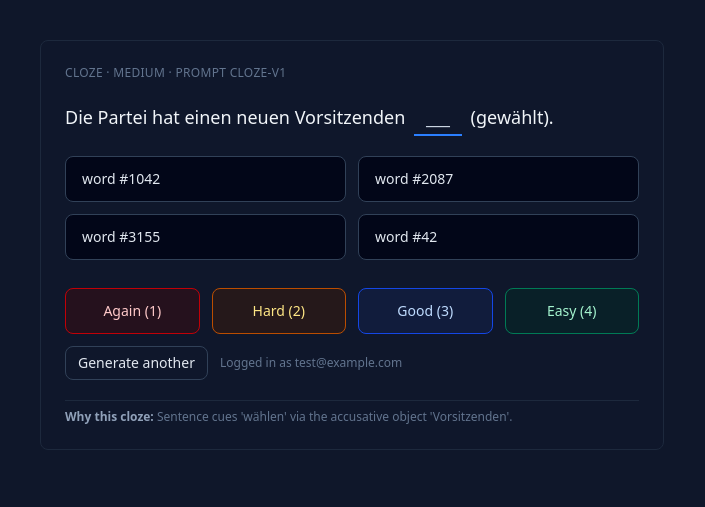
Scenario: ClozePage › 204 from getDueCloze shows the empty-due state ("all caught up")
Click the button with test id "grade-button-3".
click(425, 311)  # box [358,288,492,334]
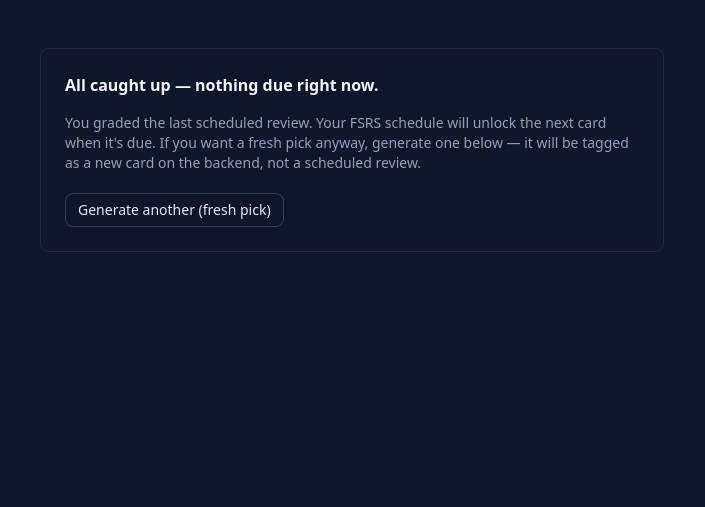
Check: the element with test id "cloze-empty-due" is shown, box [16,0,688,300]
Check: the heading "All caught up — nothing due right now." is shown, box [65,74,378,96]
Check: the button with test id "grade-button-3" is gone
